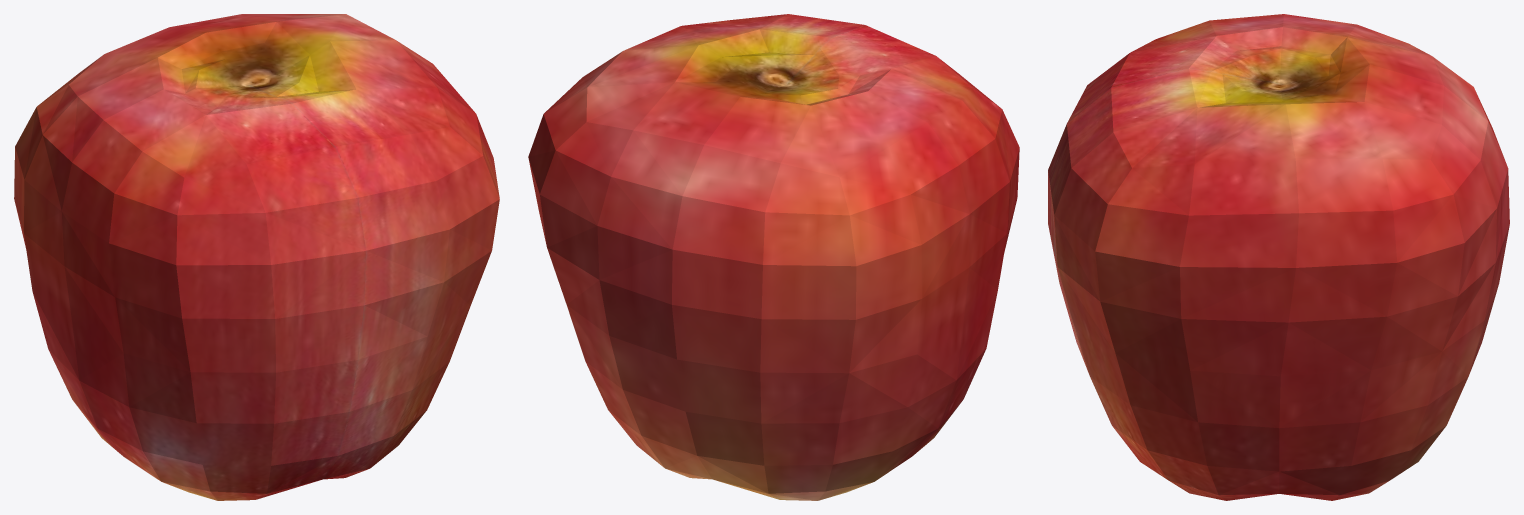
The model's file is Apple.obj.
3 renders of one model, left to right at view 1: azimuth 30°, elevation 25°; view 2: azimuth 150°, elevation 25°; view 3: azimuth 270°, elevation 25°, orthographic.
Parts seen in each view (by area): view 1: Cube; view 2: Cube; view 3: Cube.
Part boxes in pixels (x1,y1,x2,y2): Cube: (14,14,499,500); Cube: (528,14,1019,500); Cube: (1048,14,1509,500).
Bounding box in the file's own units: 2.05 × 1.94 × 2.05.
